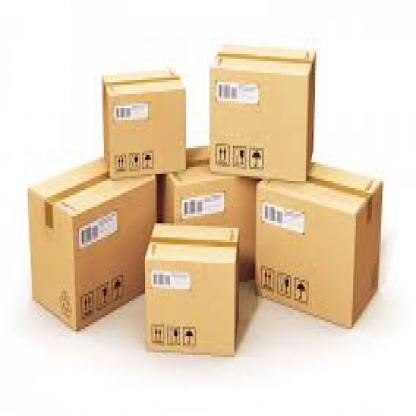paquete: (19, 143, 160, 341), (255, 162, 391, 339), (202, 28, 319, 200), (154, 129, 268, 303), (142, 214, 253, 362), (90, 61, 200, 190)
